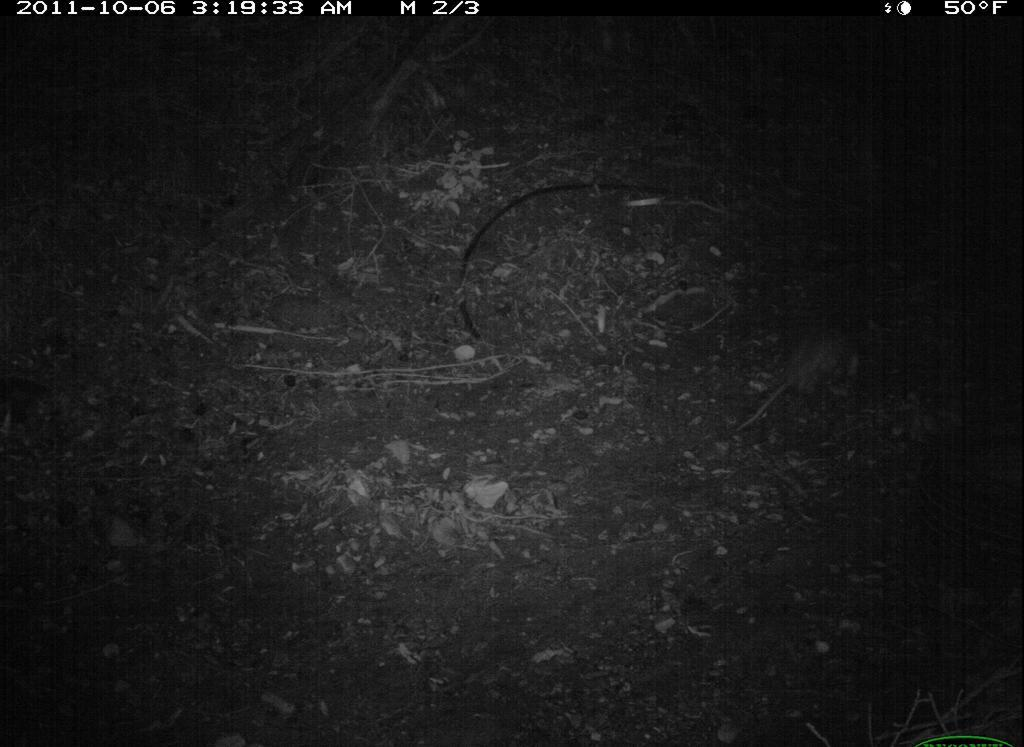opossum: (729, 301, 869, 440)
